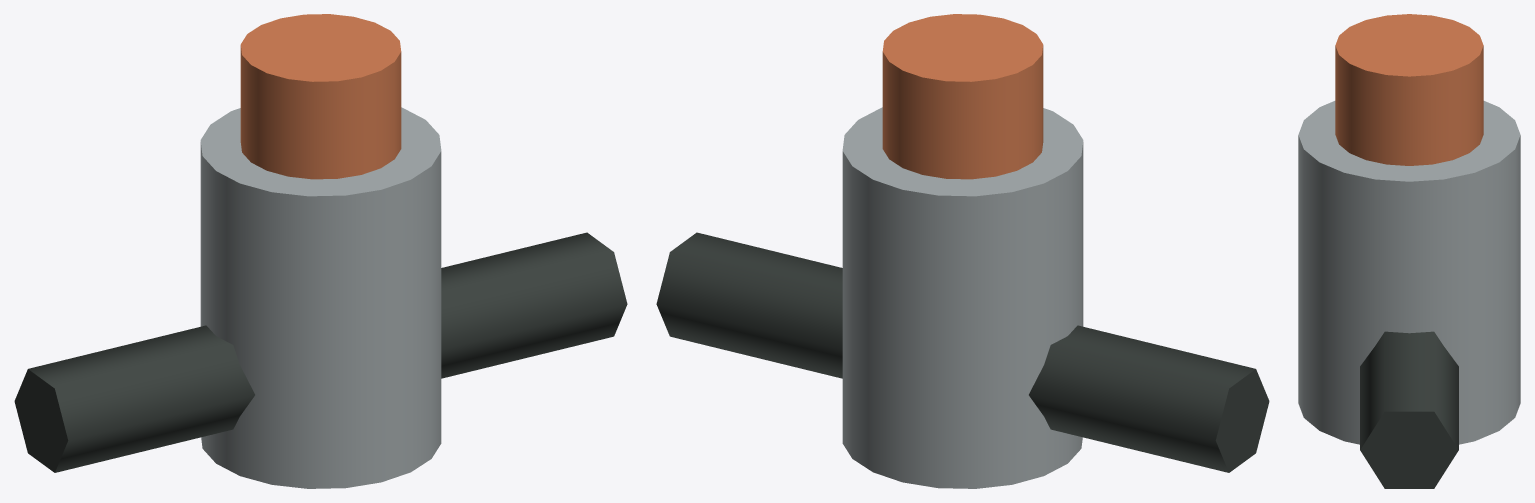
Rendered from survival-greenhouse-and-irrigation-drip-pressure-regul-51b09ccd__21326.glb.
The picture shows the model from 3 angles, left to right: view 1: azimuth 30°, elevation 25°; view 2: azimuth 150°, elevation 25°; view 3: azimuth 270°, elevation 25°; orthographic projection. The views are drawn at different scales.
Parts seen in each view (by area): view 1: drip-pressure-regulator; view 2: drip-pressure-regulator; view 3: drip-pressure-regulator.
Boxes of the visible parts, x1,y1,x2,y2 form: drip-pressure-regulator: [14, 14, 627, 488]; drip-pressure-regulator: [656, 14, 1269, 488]; drip-pressure-regulator: [1298, 14, 1520, 488].
Bounding box in the file's own units: 0.24 × 0.16 × 0.09.
